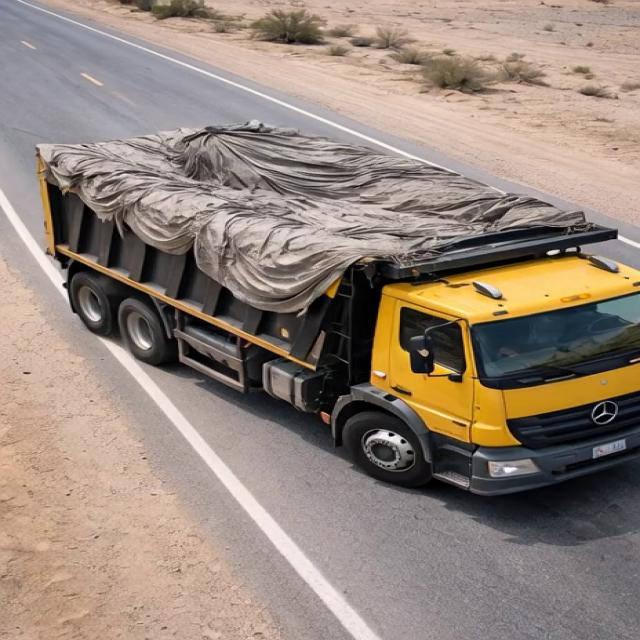Box: (27, 120, 639, 284)
Truck: (17, 93, 638, 505)
